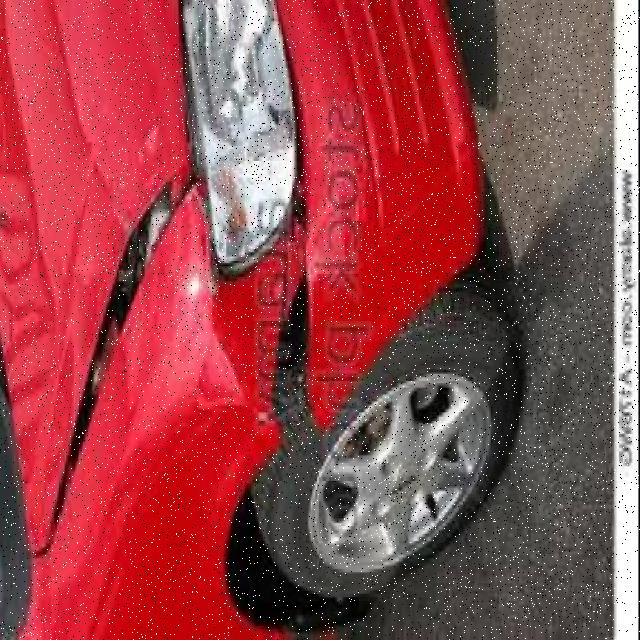damage: (34, 108, 197, 568), (195, 138, 346, 457)
